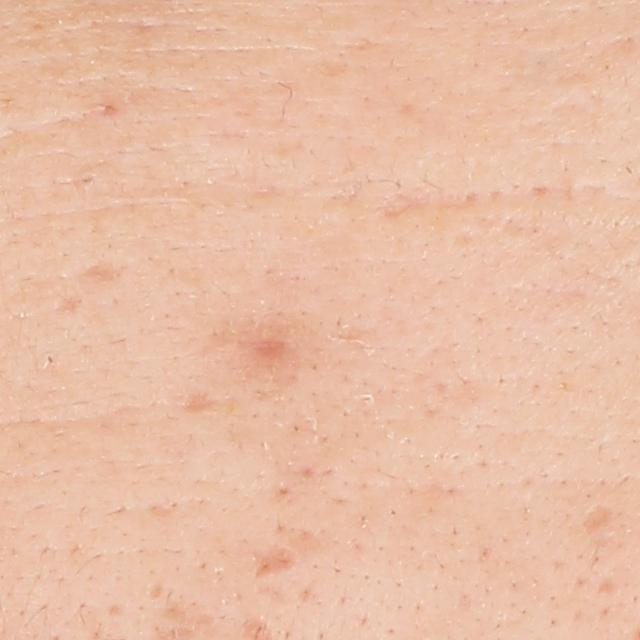atrophic_scar: (248, 541, 304, 586), (72, 259, 129, 289), (163, 598, 217, 626), (583, 503, 614, 534), (597, 577, 619, 594)
